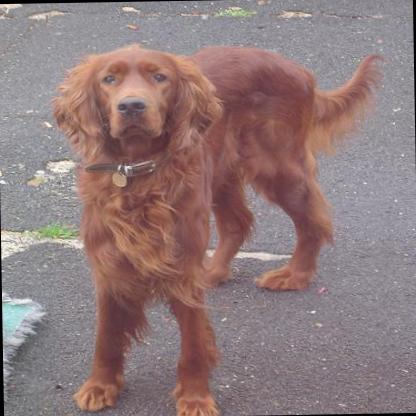Irish_setter: (48, 36, 390, 416)
